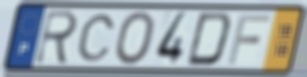4: (152, 9, 190, 68)
C: (75, 12, 117, 63)
D: (184, 10, 234, 68)
F: (226, 13, 272, 67)
O: (113, 10, 157, 68)
R: (32, 8, 81, 66)
